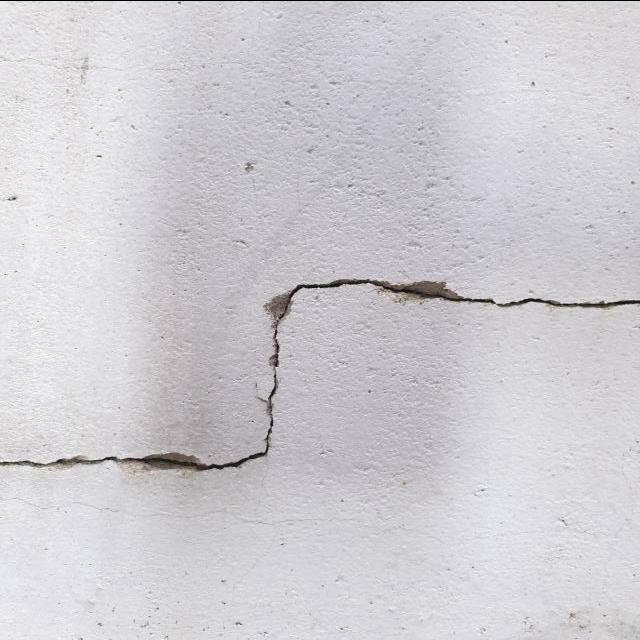SurfaceCrack: (0, 238, 639, 518)
